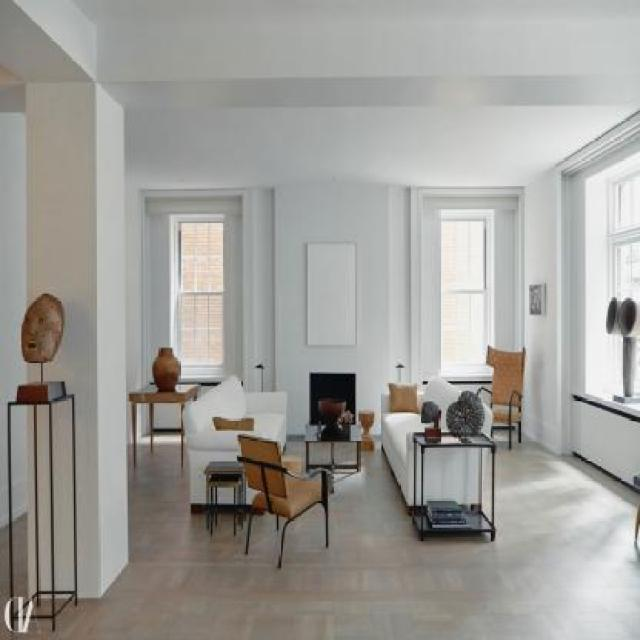floor: (55, 435, 640, 640)
